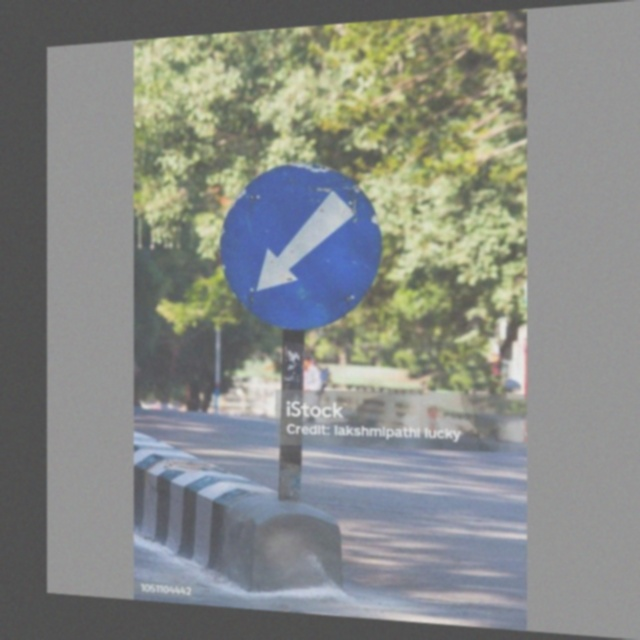Compulsory_Keep_Left: (215, 157, 392, 347)
